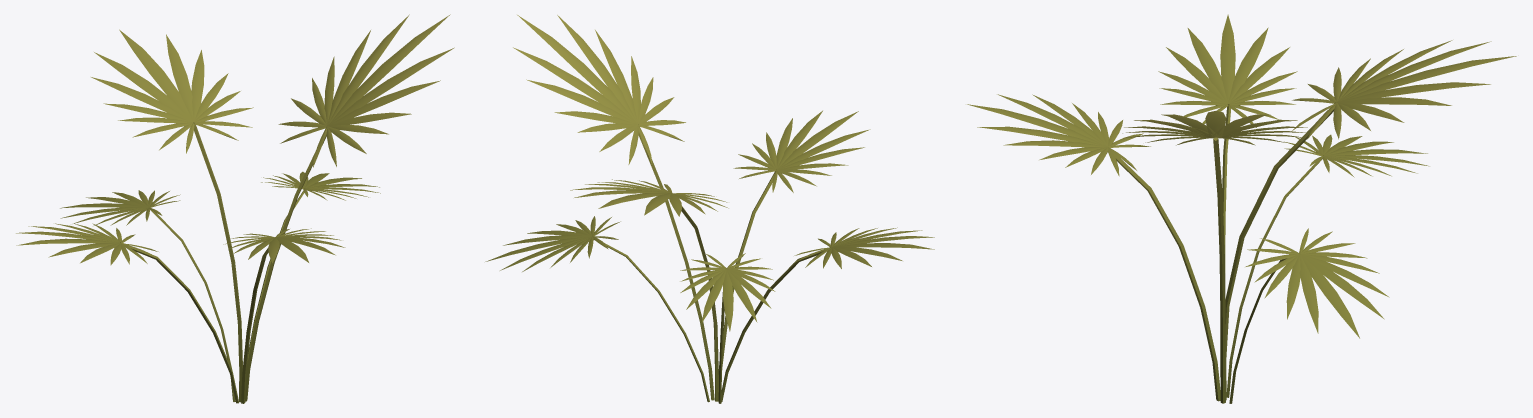
Rendered from Plant_06.fbx.
3 renders of one model, left to right at view 1: azimuth 30°, elevation 25°; view 2: azimuth 150°, elevation 25°; view 3: azimuth 270°, elevation 25°, orthographic. The views are drawn at different scales.
Parts seen in each view (by area): view 1: Plant_06_LOD0; view 2: Plant_06_LOD0; view 3: Plant_06_LOD0.
Part boxes in pixels (x1=…): Plant_06_LOD0: x1=16, y1=14, x2=454, y2=403; Plant_06_LOD0: x1=485, y1=15, x2=934, y2=403; Plant_06_LOD0: x1=967, y1=14, x2=1516, y2=403.
Size of what is drawn, in the model's own units: 1.69 by 1.27 by 1.55.
